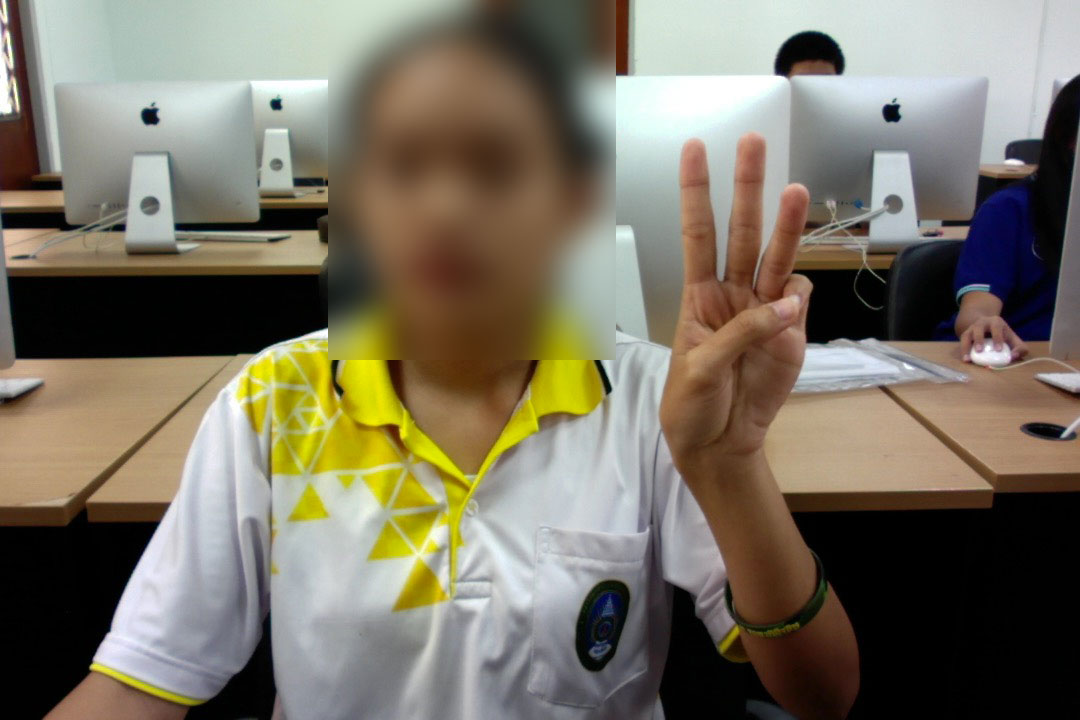wor: (650, 122, 834, 476)
